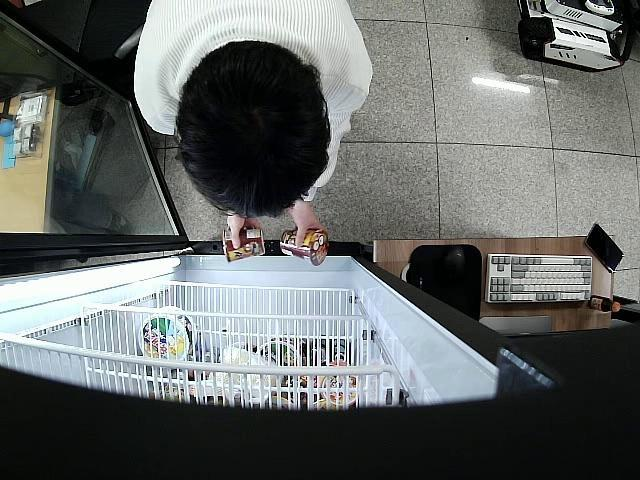06_nuguri_S: (279, 226, 328, 265), (222, 224, 264, 265)
